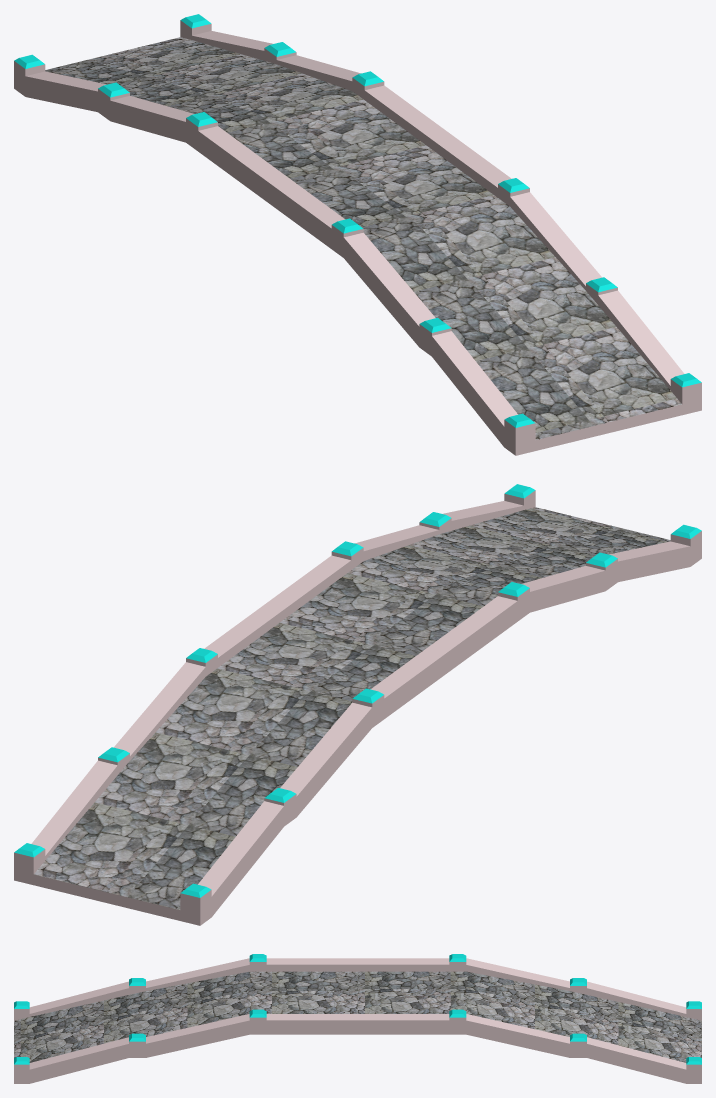
Rendered from bridge.fbx.
The picture shows the model from 3 angles, top to bottom: view 1: azimuth 30°, elevation 25°; view 2: azimuth 150°, elevation 25°; view 3: azimuth 270°, elevation 25°; orthographic projection. The views are drawn at different scales.
Visible parts, largest first — view 1: Cube.001; view 2: Cube.001; view 3: Cube.001.
Boxes of the visible parts, x1,y1,x2,y2 form: Cube.001: (14, 14, 701, 455); Cube.001: (14, 484, 701, 925); Cube.001: (14, 954, 701, 1083).
Size of the model in its own units: 1879 by 967 by 8769.
